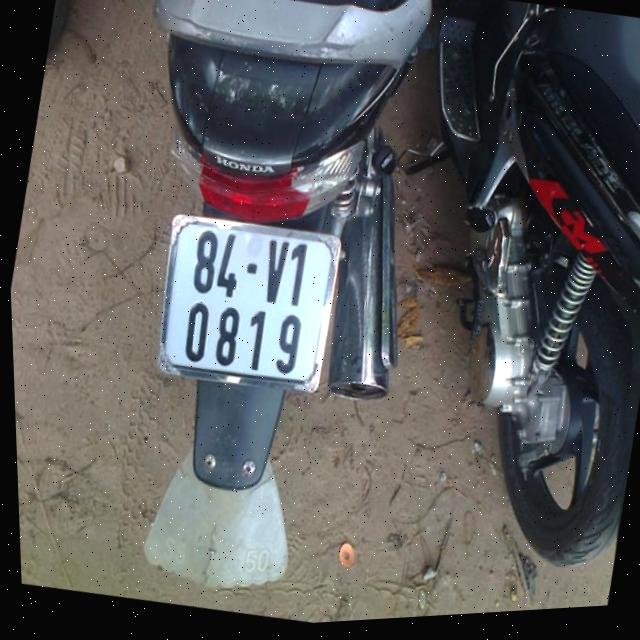motorcycle: (55, 0, 478, 546), (344, 0, 640, 588)
plate: (143, 201, 352, 408)
